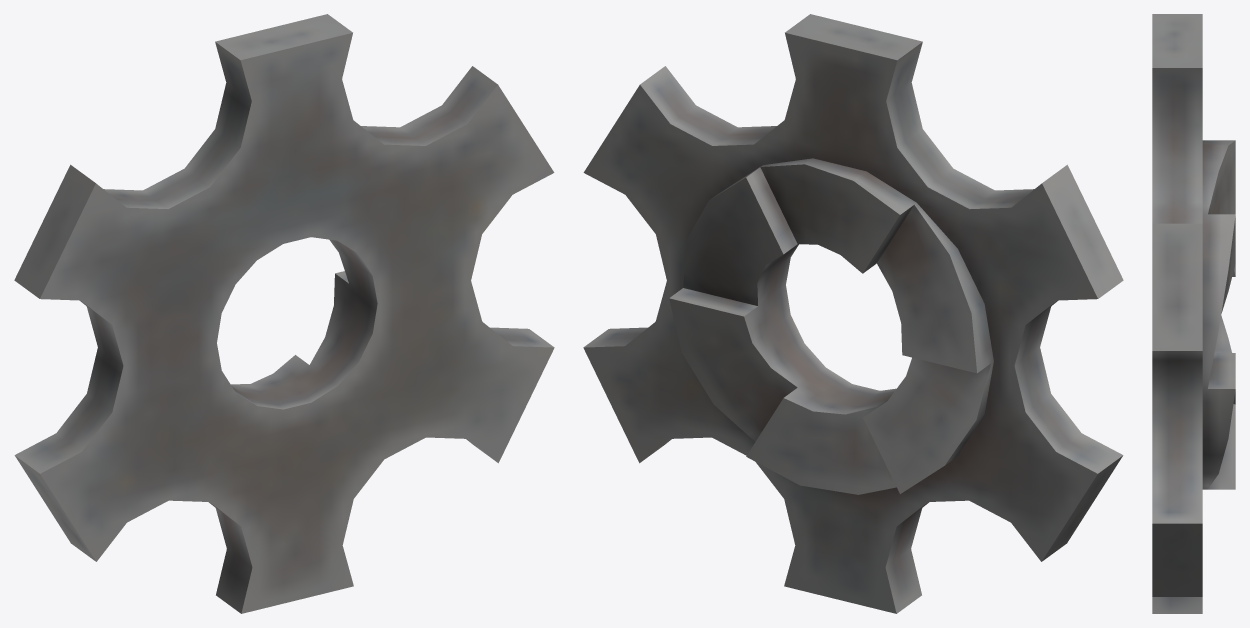
Rendered from SM_RageBull_01e.fbx.
The picture shows the model from 3 angles, left to right: view 1: azimuth 30°, elevation 25°; view 2: azimuth 150°, elevation 25°; view 3: azimuth 270°, elevation 25°; orthographic projection.
Parts seen in each view (by area): view 1: SM_RageBull_01e_LOD0; view 2: SM_RageBull_01e_LOD0; view 3: SM_RageBull_01e_LOD0.
Part boxes in pixels (left/top/right/bottom): SM_RageBull_01e_LOD0: left=14, top=14, right=554, bottom=613; SM_RageBull_01e_LOD0: left=583, top=14, right=1123, bottom=613; SM_RageBull_01e_LOD0: left=1152, top=14, right=1235, bottom=613.
Size of the model in its own units: 3.29 by 0.4677 by 3.38.
